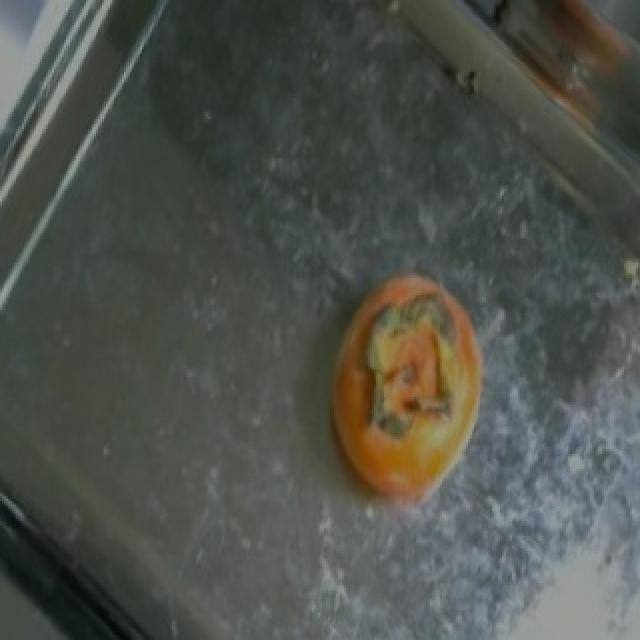Fruit: (306, 255, 504, 541)
